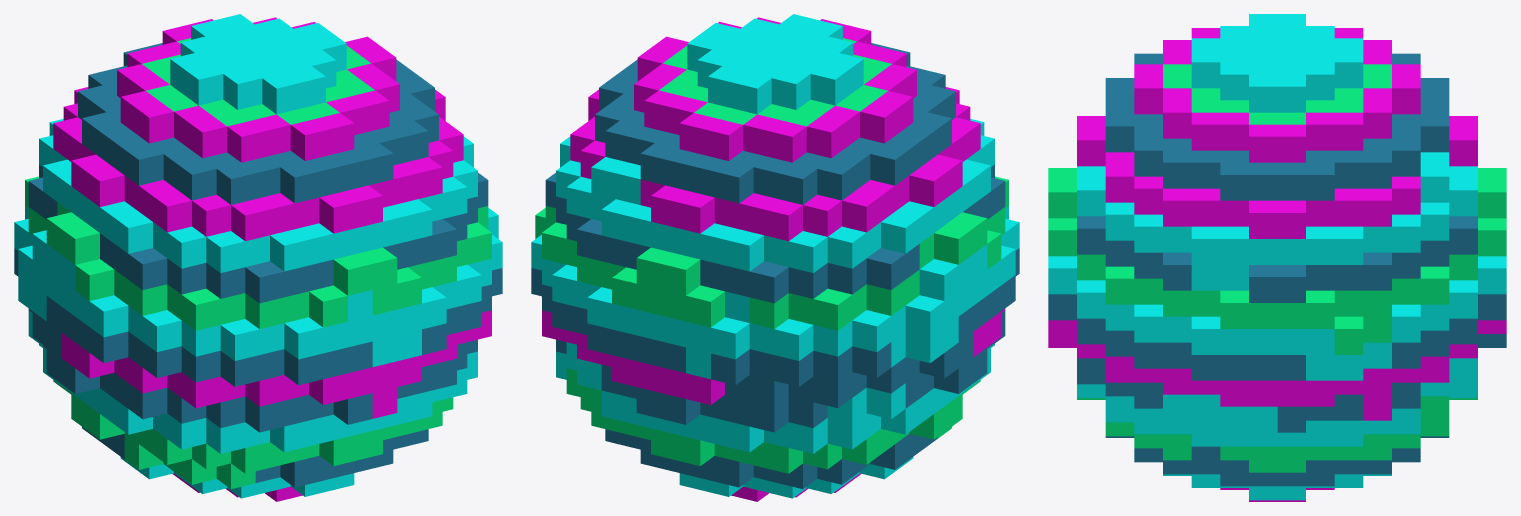
The model's file is planetas-14-coloridolistrado.obj.
The picture shows the model from 3 angles, left to right: view 1: azimuth 30°, elevation 25°; view 2: azimuth 150°, elevation 25°; view 3: azimuth 270°, elevation 25°; orthographic projection.
Size of the model in its own units: 1.6 by 1.6 by 1.6.
Materials: 1 (1 with a texture image).
